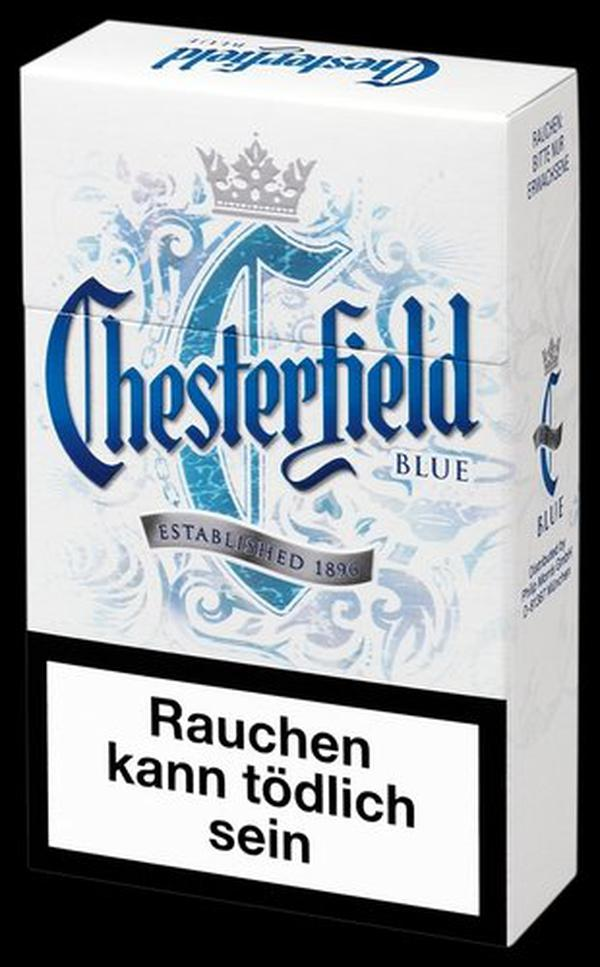chesterfield_blue: (25, 122, 509, 854)
